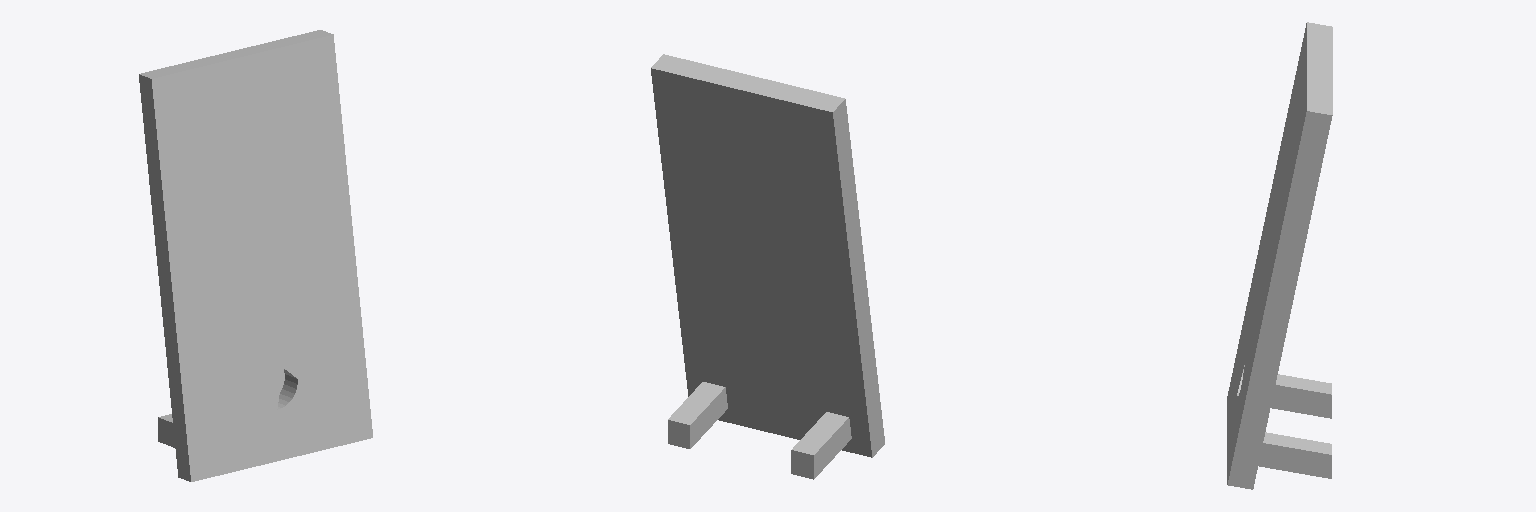
Rendered from CornholeBoardJoel.obj.
3 renders of one model, left to right at view 1: azimuth 30°, elevation 25°; view 2: azimuth 150°, elevation 25°; view 3: azimuth 270°, elevation 25°, orthographic.
Visible parts, largest first — view 1: Cube, Plane; view 2: Cube, Cube.001; view 3: Cube, Cube.001, Plane.
Part boxes in pixels (bbox=[...]): Cube: bbox=[139, 30, 372, 481]; Plane: bbox=[192, 147, 326, 310]; Cube: bbox=[651, 54, 884, 457]; Cube.001: bbox=[668, 382, 851, 479]; Cube: bbox=[1227, 22, 1332, 489]; Cube.001: bbox=[1258, 374, 1331, 478]; Plane: bbox=[1260, 137, 1285, 313].
Bounding box in the file's own units: 300 × 596 × 150.